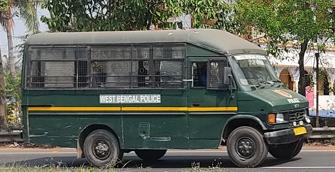Auto: (22, 28, 313, 169)
